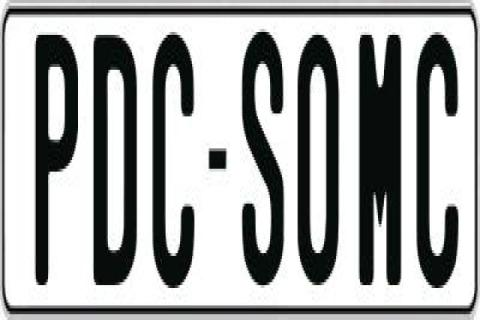0: (296, 32, 344, 296)
C: (414, 27, 458, 297), (148, 35, 192, 288)
D: (90, 27, 136, 286)
M: (356, 32, 404, 296)
P: (32, 26, 74, 276)
S: (239, 26, 287, 288)
